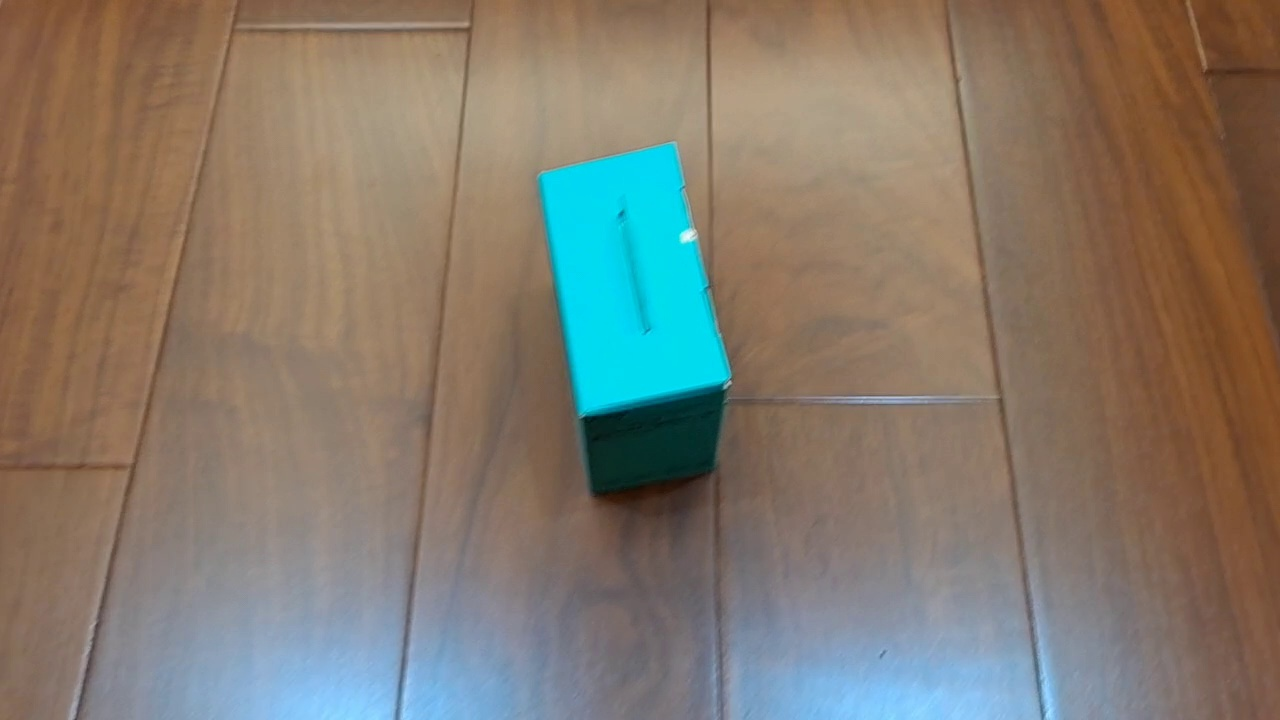webcam: (535, 140, 733, 498)
